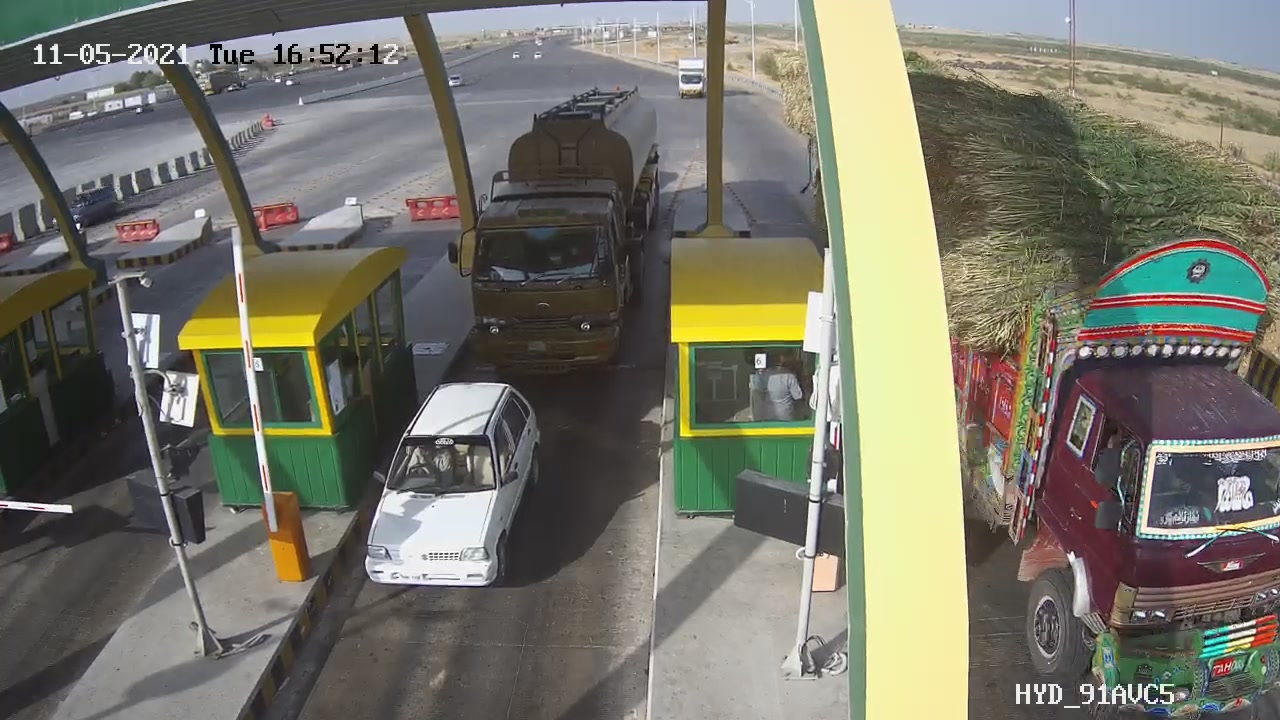F1: (346, 373, 559, 606)
F6: (461, 74, 678, 382)
